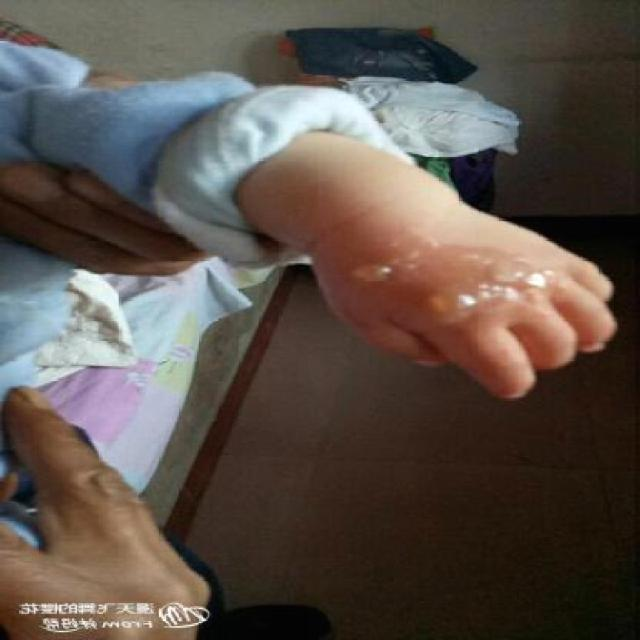hand_noglove: (306, 215, 617, 403), (1, 386, 216, 631)
